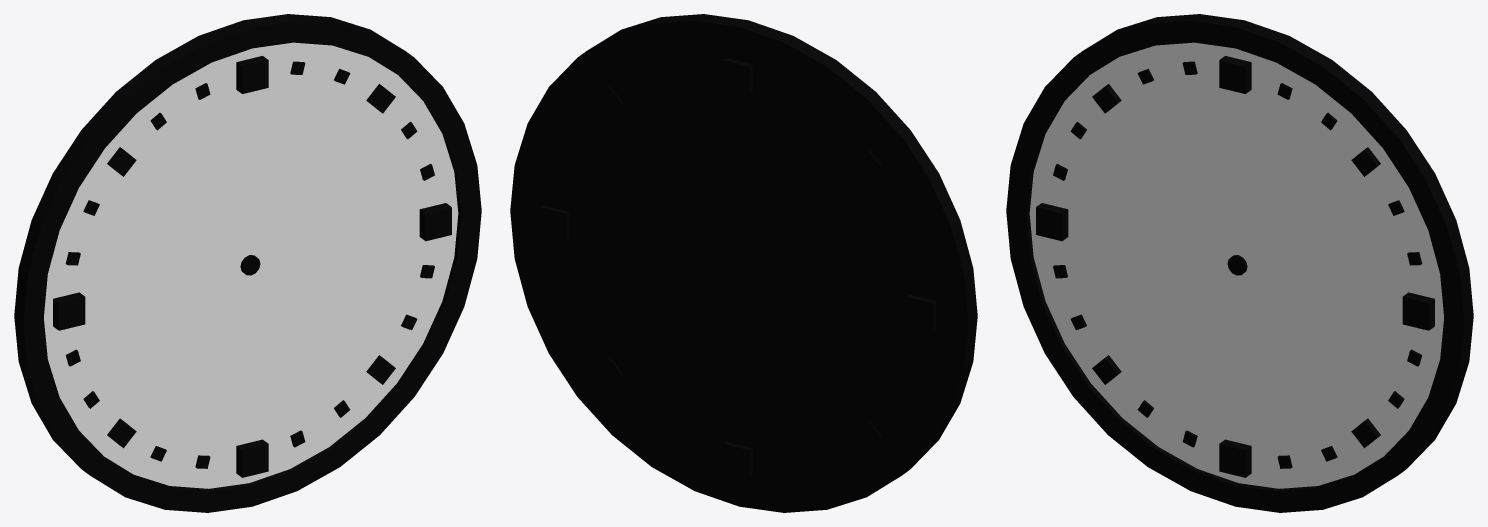
Rendered from clock.glb.
3 renders of one model, left to right at view 1: azimuth 30°, elevation 25°; view 2: azimuth 150°, elevation 25°; view 3: azimuth 330°, elevation 25°, orthographic.
Visible parts, largest first — view 1: Cylinder; view 2: Cylinder; view 3: Cylinder.
Boxes of the visible parts, x1=… form: Cylinder: x1=14, y1=14, x2=481, y2=512; Cylinder: x1=510, y1=14, x2=977, y2=512; Cylinder: x1=1006, y1=14, x2=1473, y2=512.
Bounding box in the file's own units: 0.4 × 0.4 × 0.023.
1 material, 1 textured.
